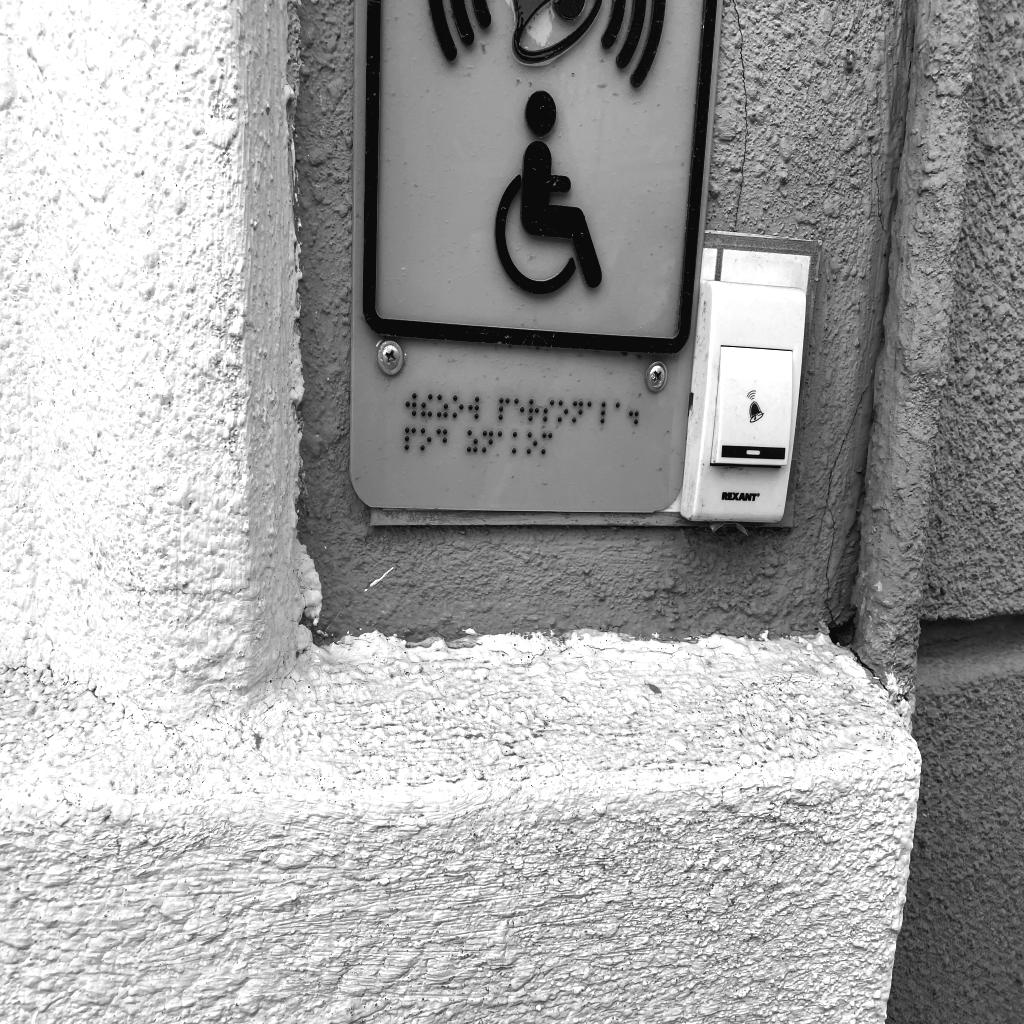_n: (572, 400, 583, 424), (482, 431, 493, 454)
a: (615, 401, 626, 424), (587, 400, 597, 423), (498, 431, 508, 453)
d: (436, 428, 447, 451)
e: (515, 398, 525, 421)
ii: (421, 393, 432, 417)
k: (512, 432, 522, 454)
l: (601, 401, 612, 424)
m: (542, 431, 554, 455)
o: (452, 395, 464, 418), (420, 428, 432, 451), (527, 431, 538, 454), (558, 400, 568, 422)
p: (405, 427, 417, 451), (499, 396, 510, 420)
r: (528, 398, 539, 422)
s: (543, 399, 555, 422)
tochka: (628, 403, 639, 425)
v: (405, 393, 417, 417), (468, 395, 480, 419)
z: (466, 430, 478, 454), (437, 394, 448, 418)
